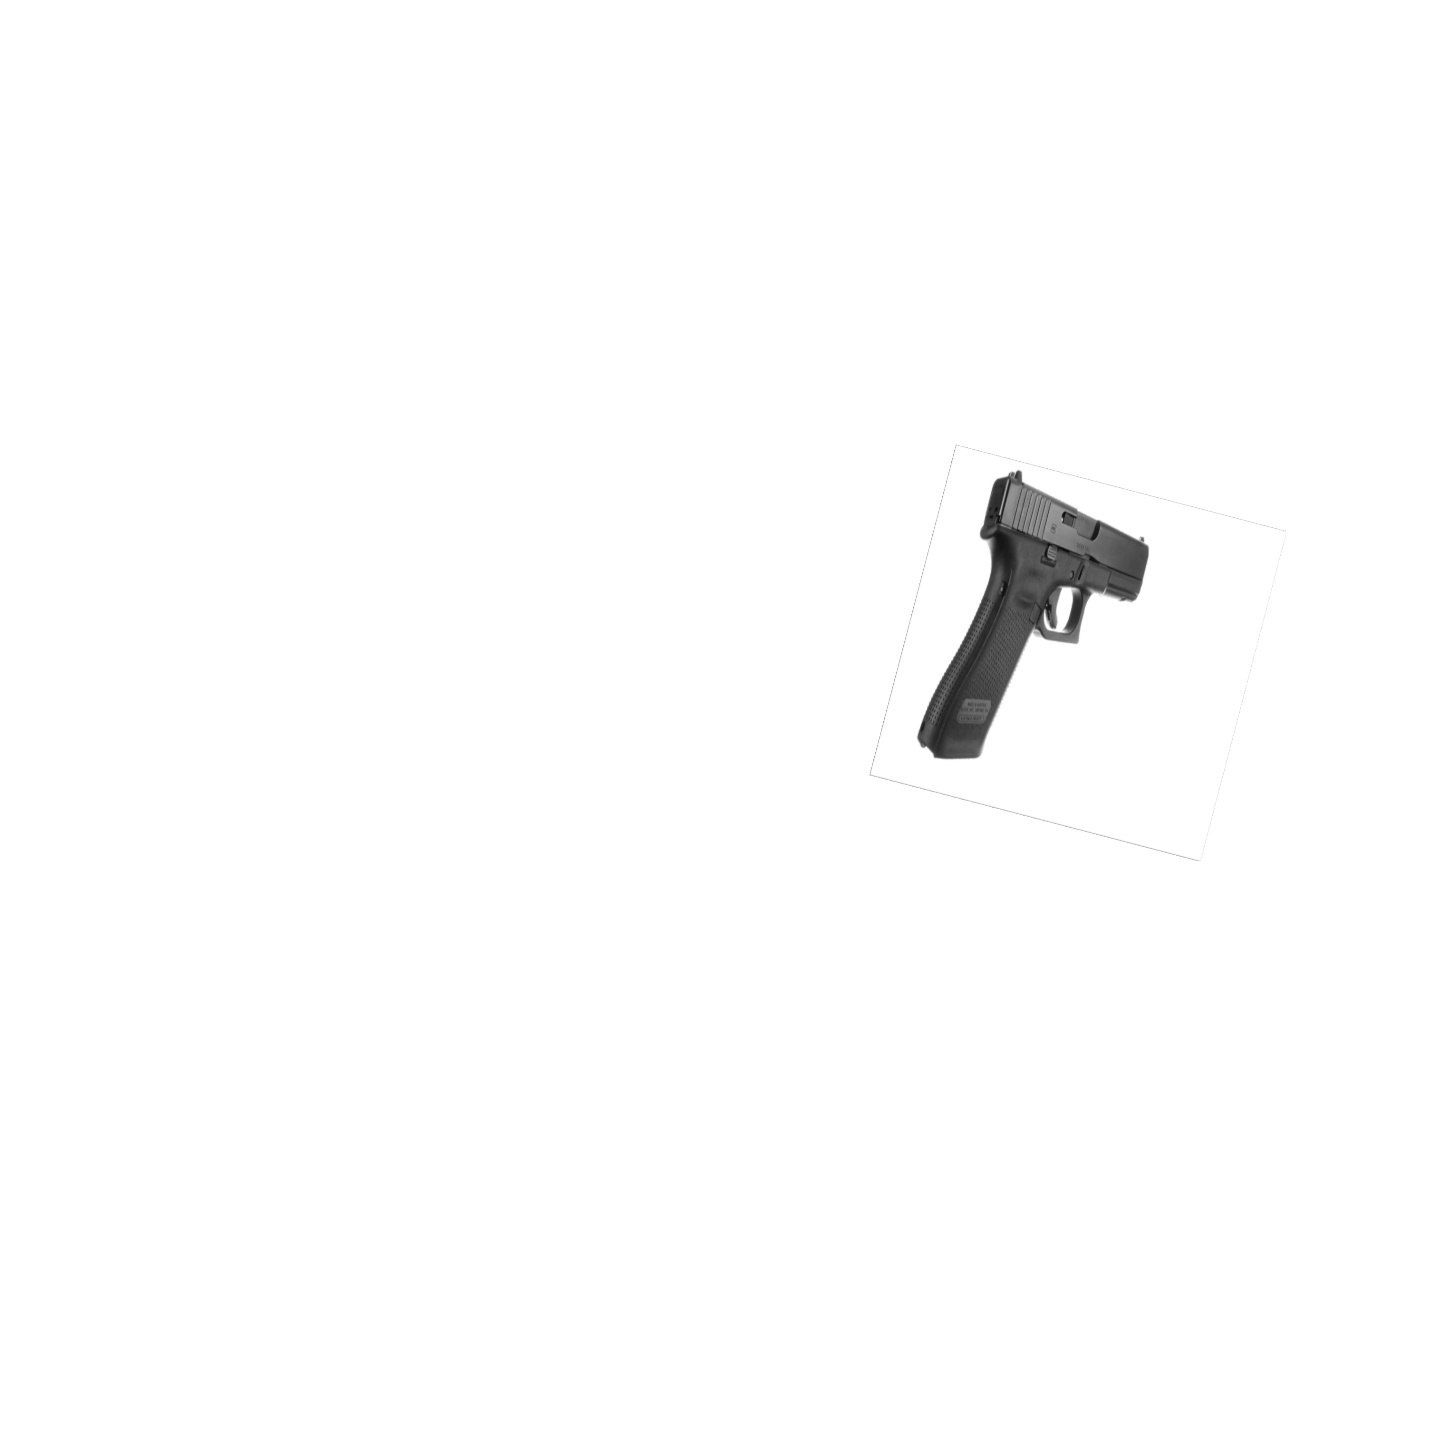gun: (915, 458, 1154, 770)
